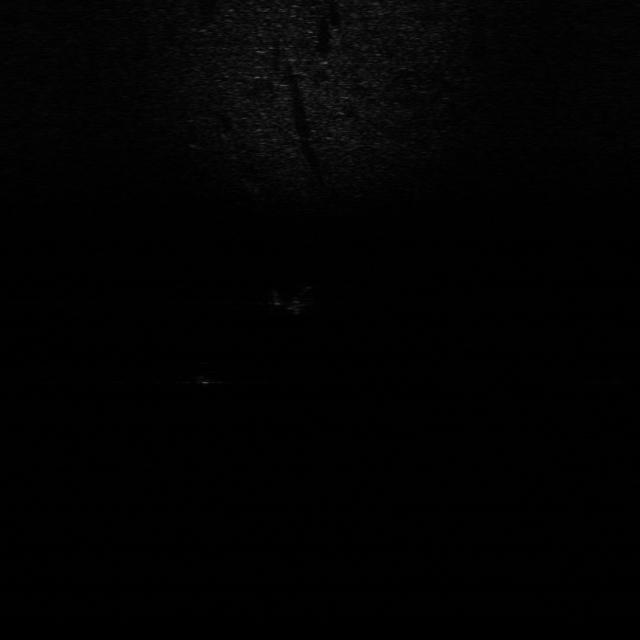ball: (191, 361, 223, 387)
human body: (270, 284, 320, 318)
